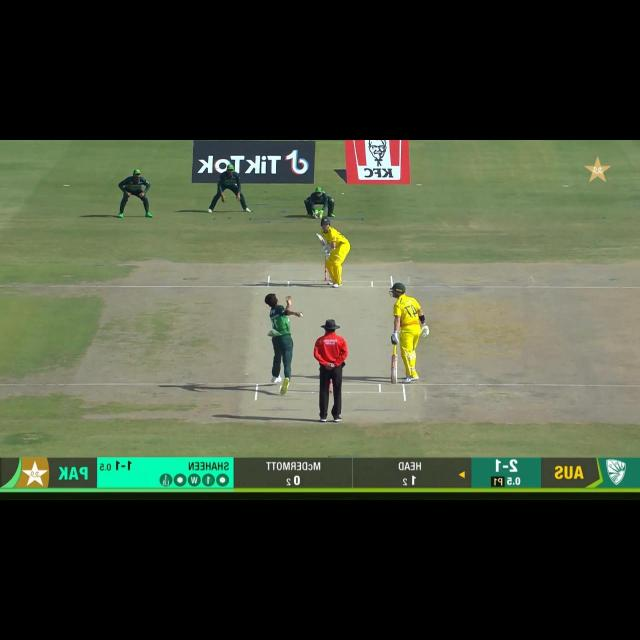bat: (391, 354, 398, 384), (316, 232, 326, 246)
toe: (391, 378, 397, 384), (316, 232, 320, 237)
